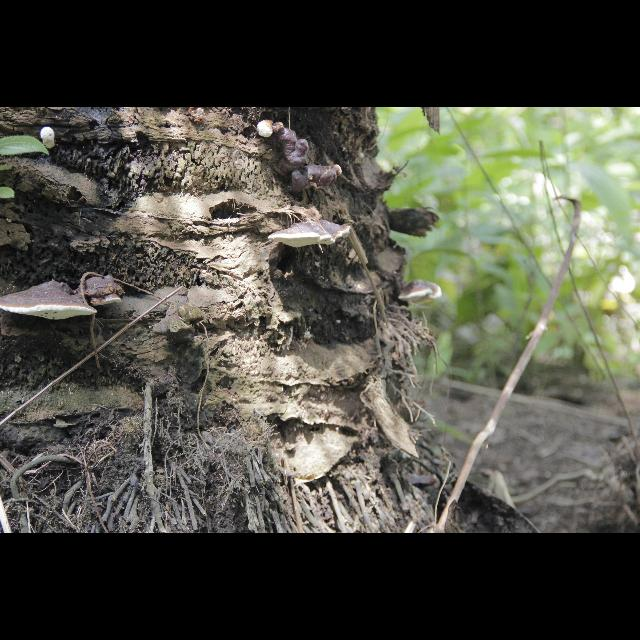ganoderma: (275, 123, 333, 196), (2, 281, 99, 321), (269, 219, 353, 249), (79, 276, 127, 307), (399, 280, 443, 307)
primordium: (41, 127, 57, 149), (258, 121, 275, 139), (335, 165, 343, 178)
